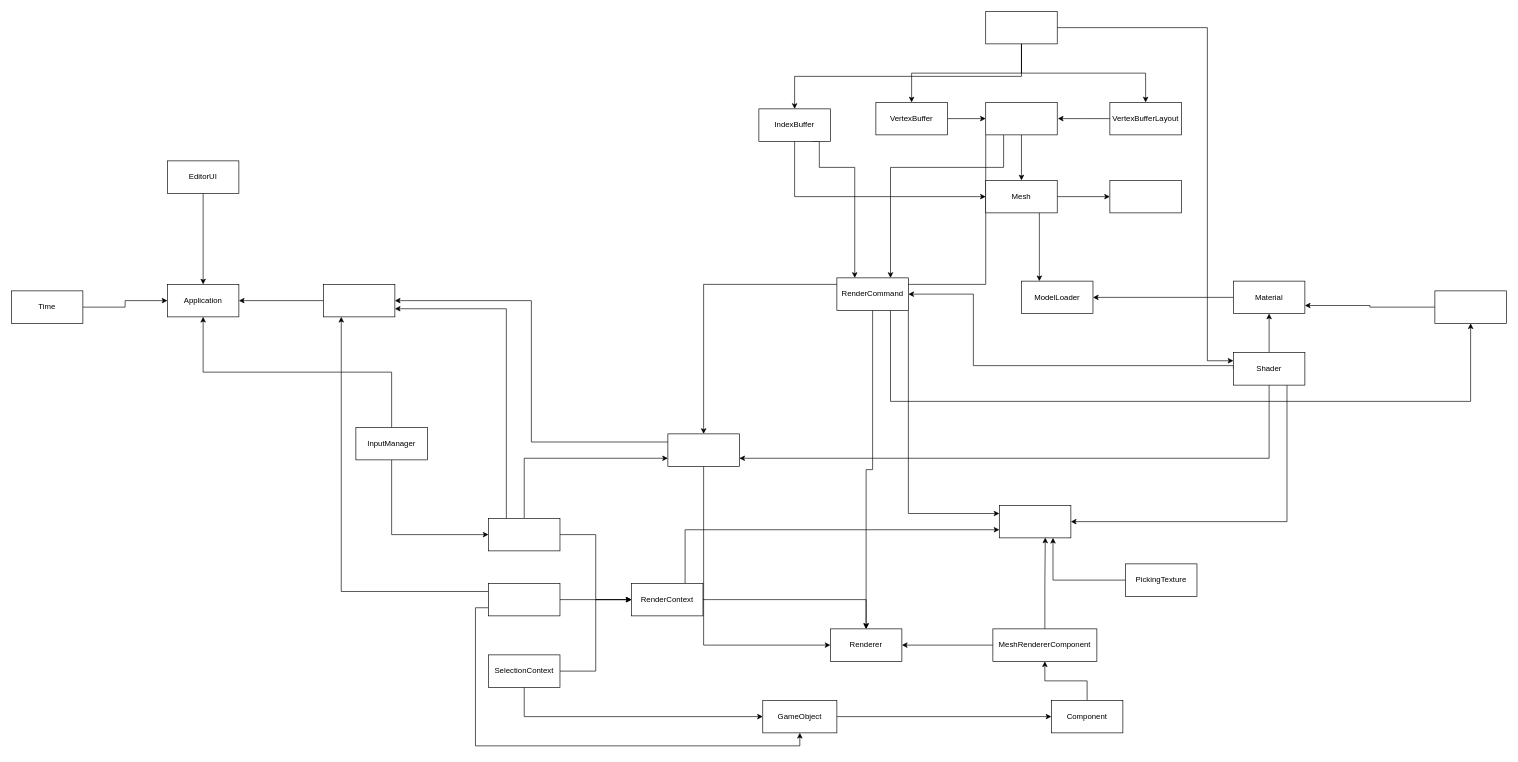
Image size: 1518x762. Some labels were removed from this diagram. The shapes that lost their labels are listed below. From the top down, each one's centre as x and y in pixels, then its label:
At (1021,27): "Core".
At (1021,118): "VertexArray".
At (1145,196): "Vertex".
At (359,300): "tests".
At (1470,306): "Texture".
At (703,449): "InfGrid".
At (524,534): "Camera".
At (1035,521): "SelectionSystem".
At (524,599): "Scene".
